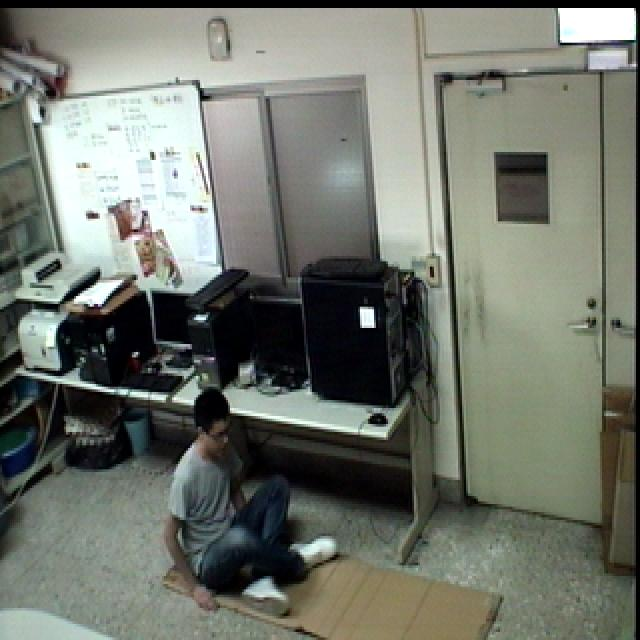sit: (156, 383, 345, 617)
